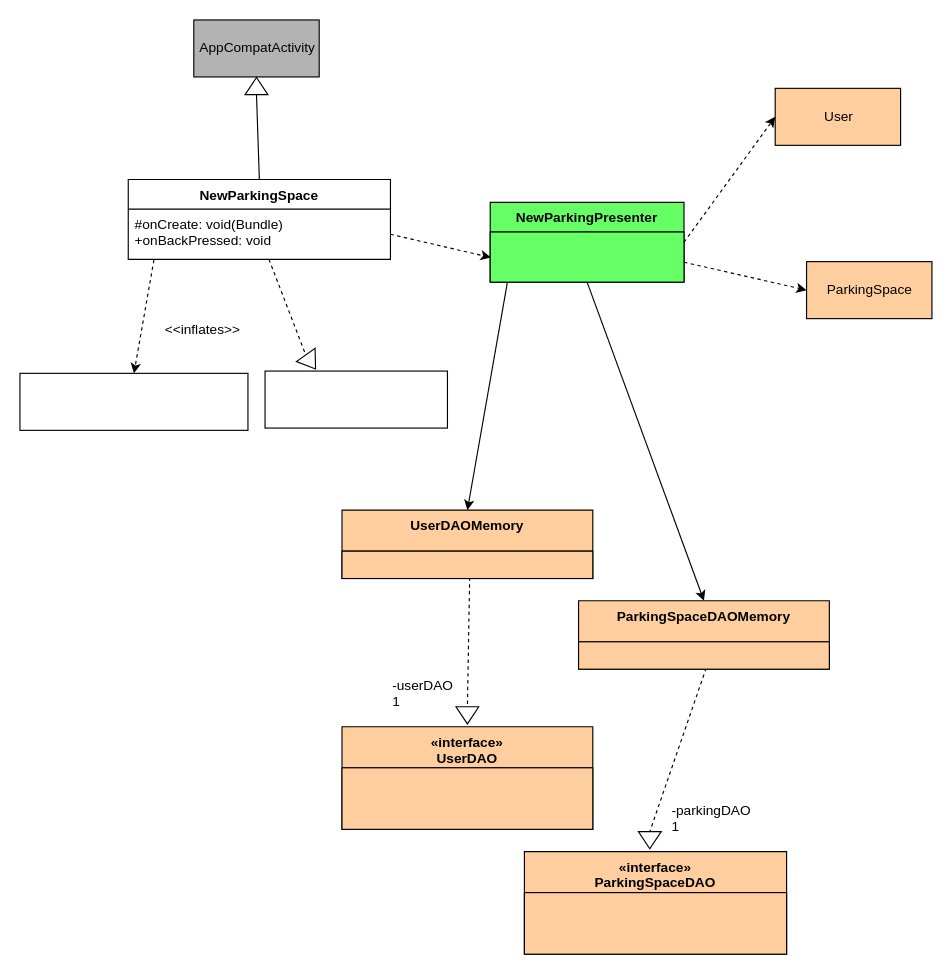
Some shapes in this 952 by 977 pixel diagram are drawn without their labels. The shapes that lost their labels are listed below. From the top down, each one's centre as x and y in pixels, then its label:
At (586,256): "+add: void (ParkingSpace) +setPlate: void()".
At (133,401): "«layout» activity_new_parking_space.xml".
At (355,399): "«interface» NewParking View".
At (467,798): "+ find: User(String)".
At (655,922): "+ save: void(ParkingSpace) + find: ParkingSpace(ParkingSpace)".
